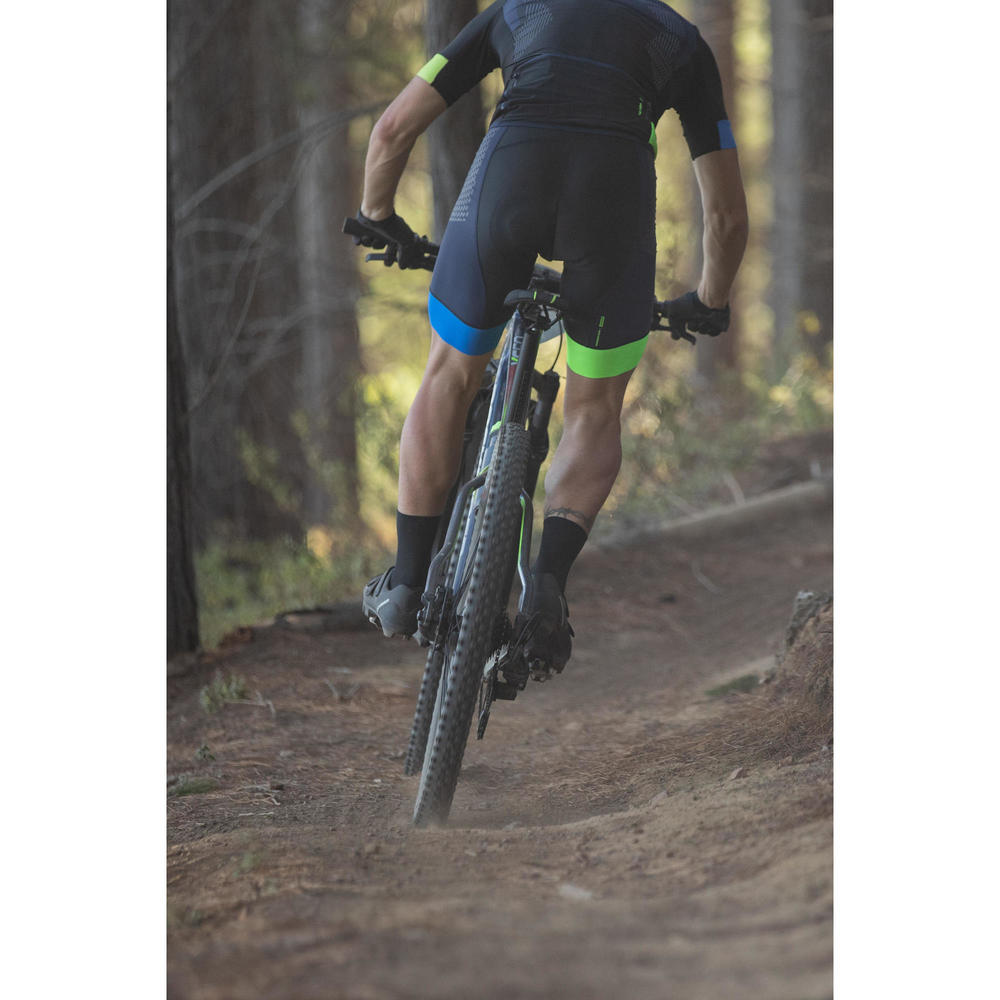MountainBike: (330, 190, 728, 841)
